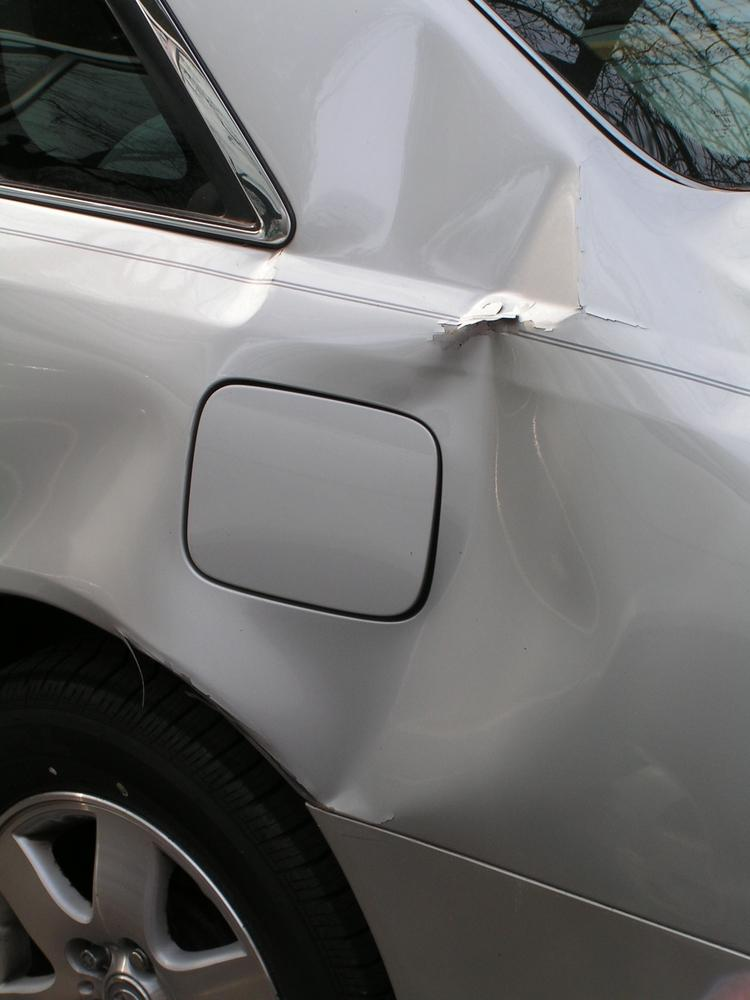dent: (230, 15, 750, 814), (0, 351, 178, 574)
